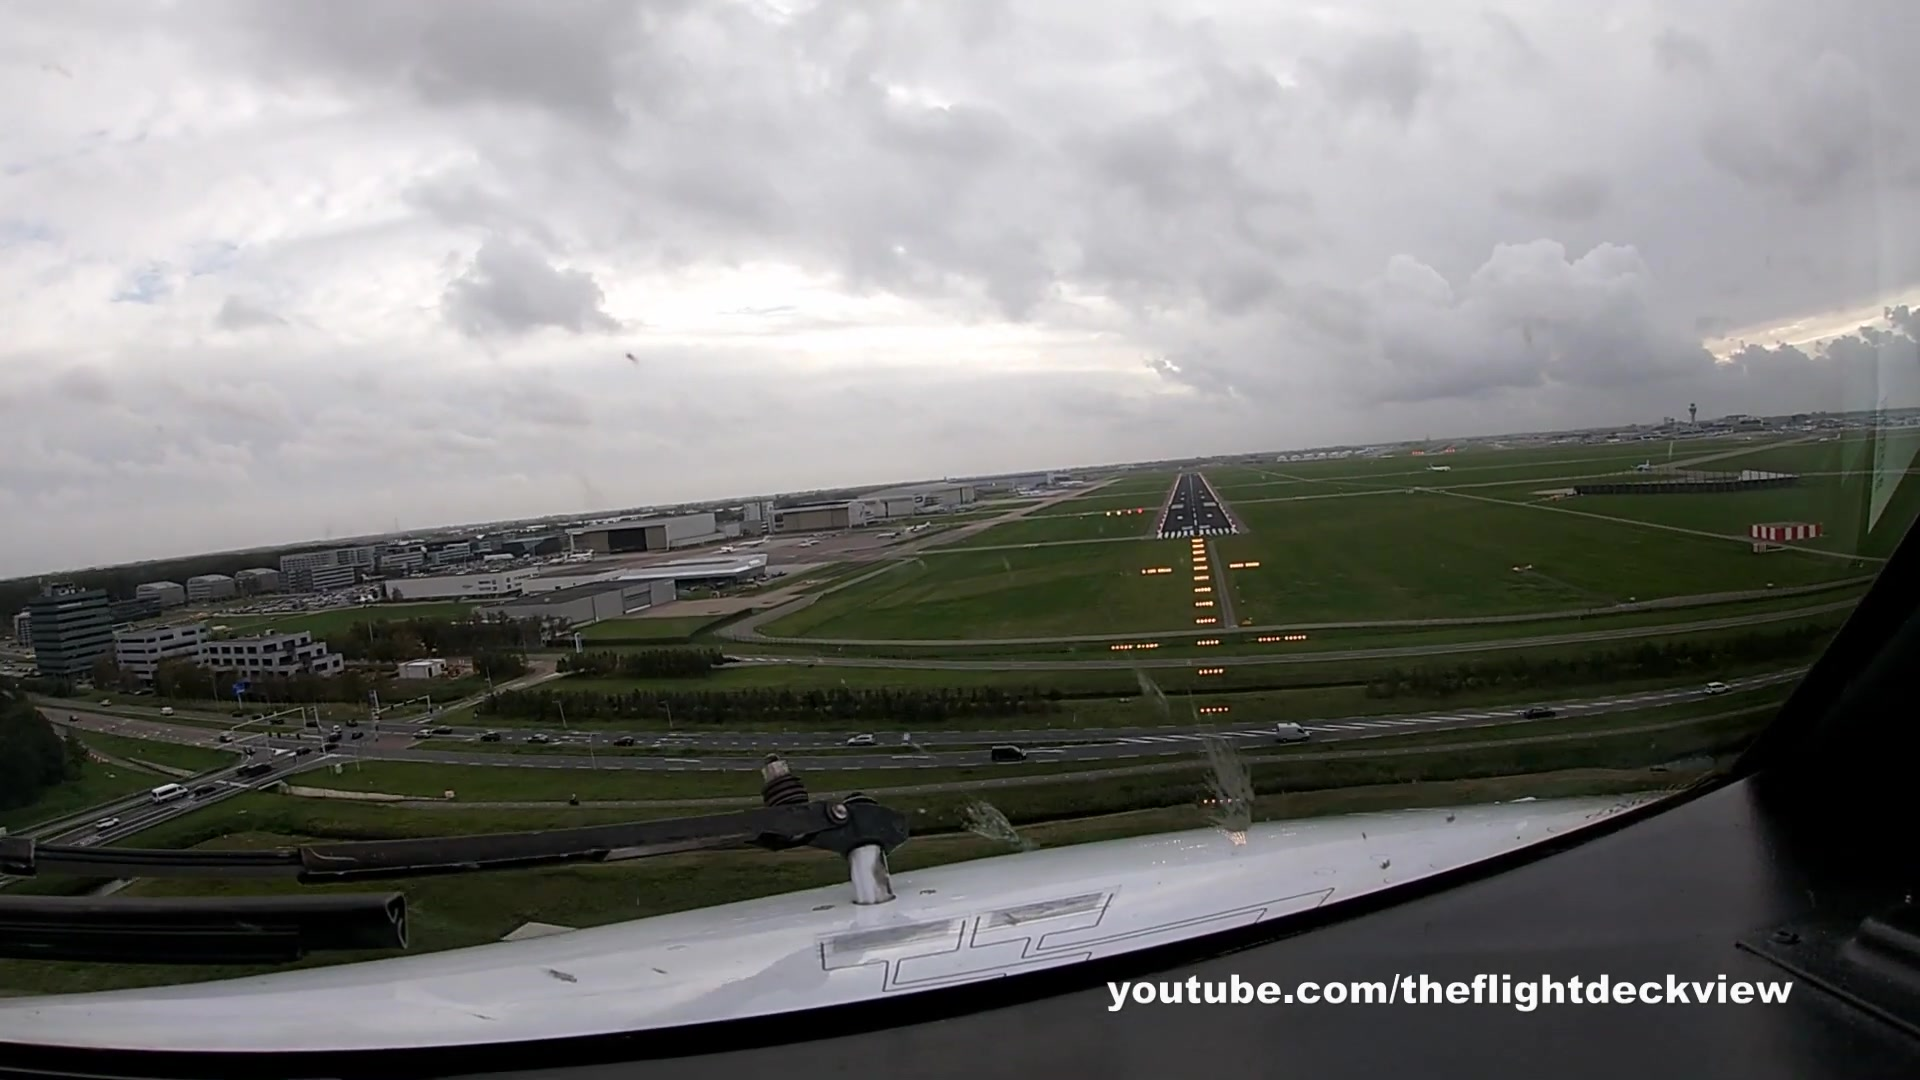entrance: (1158, 527, 1236, 539)
runway: (1156, 469, 1238, 542)
